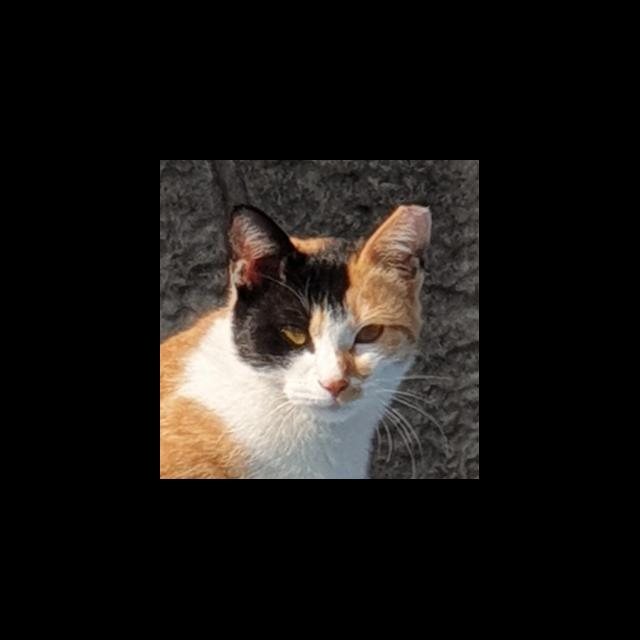animals: (215, 192, 437, 425)
